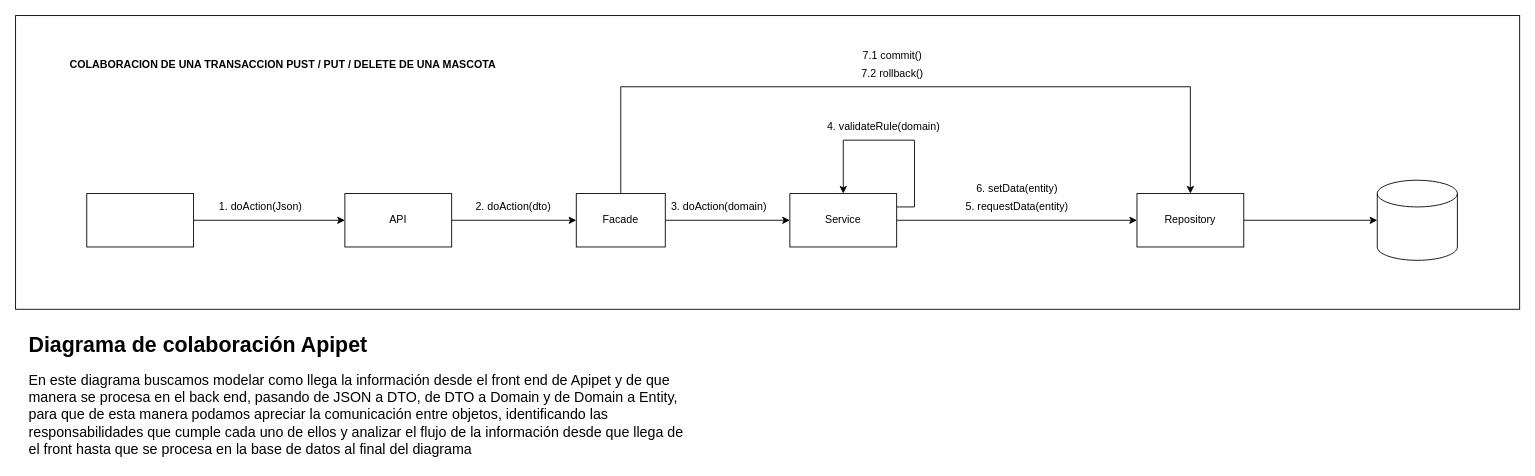
Some shapes in this 1535 by 476 pixel diagram are drawn without their labels. Here are the shapes that lost their labels. From the top down, the box of each, then its label:
(86, 193, 194, 247): Front end
(1376, 179, 1457, 260): Data base
